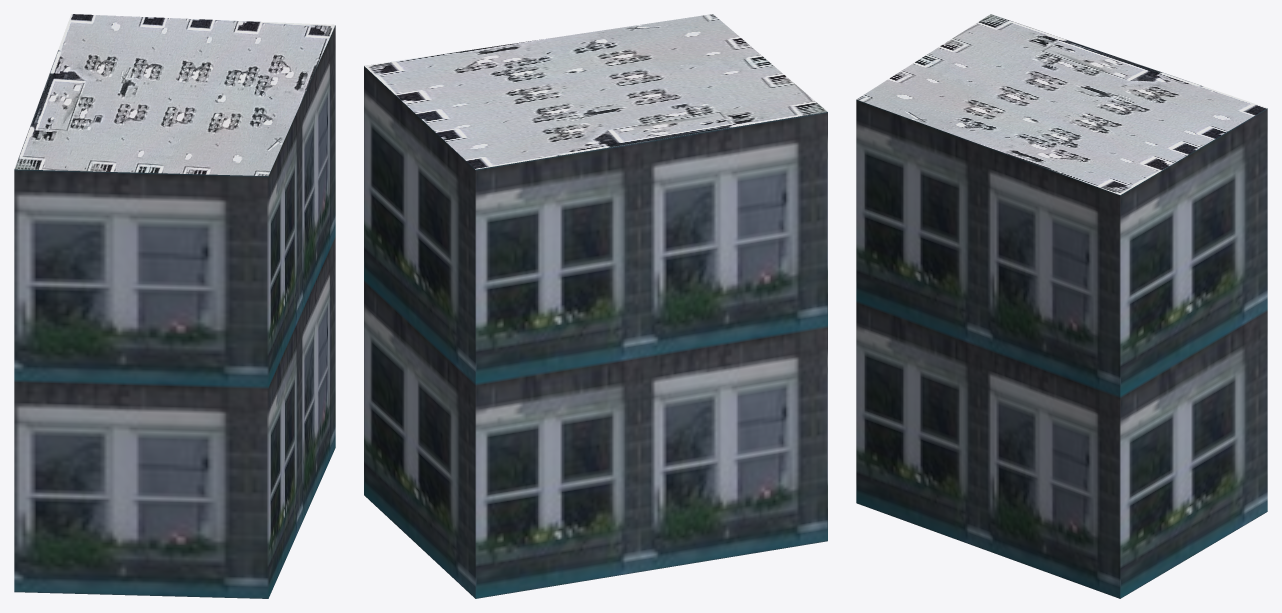
Rendered from ResTex__667.fbx.
3 views of the same model, side by side, from view 1: azimuth 30°, elevation 25°; view 2: azimuth 150°, elevation 25°; view 3: azimuth 270°, elevation 25° (orthographic). The views are drawn at different scales.
Parts seen in each view (by area): view 1: CityEngineMaterial_11_m, CityEngineMaterial_8_m; view 2: CityEngineMaterial_11_m, CityEngineMaterial_8_m; view 3: CityEngineMaterial_11_m, CityEngineMaterial_8_m.
Boxes of the visible parts, x1,y1,x2,y2 form: CityEngineMaterial_11_m: (14, 25, 335, 598); CityEngineMaterial_8_m: (14, 14, 335, 175); CityEngineMaterial_11_m: (364, 66, 827, 598); CityEngineMaterial_8_m: (364, 14, 827, 169); CityEngineMaterial_11_m: (856, 99, 1267, 598); CityEngineMaterial_8_m: (856, 14, 1267, 194).
Size of the model in its own units: 5.78 by 6 by 5.54.
Materials: 2 (2 with a texture image).
